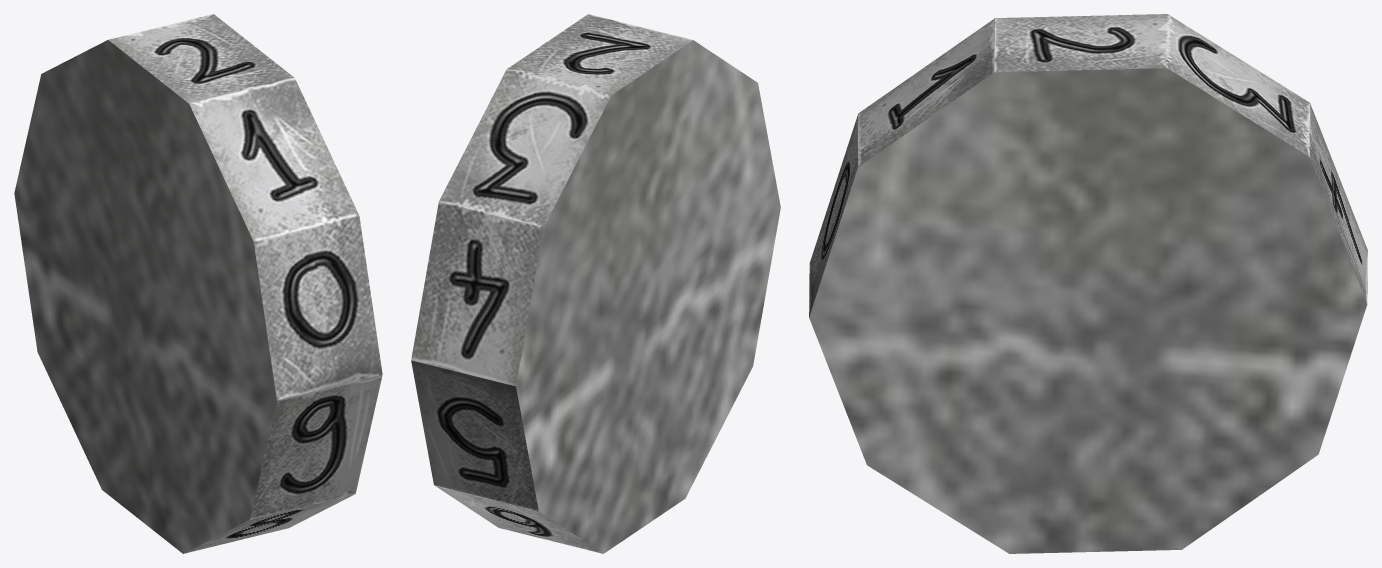
File: digicode.fbx
The picture shows the model from 3 angles, left to right: view 1: azimuth 30°, elevation 25°; view 2: azimuth 150°, elevation 25°; view 3: azimuth 270°, elevation 25°; orthographic projection. The views are drawn at different scales.
Parts seen in each view (by area): view 1: code; view 2: code; view 3: code.
Boxes of the visible parts, x1=… form: code: x1=14, y1=14, x2=382, y2=553; code: x1=411, y1=14, x2=780, y2=553; code: x1=809, y1=14, x2=1367, y2=553.
Size of the model in its own units: 4.11 by 16.79 by 17.5.
